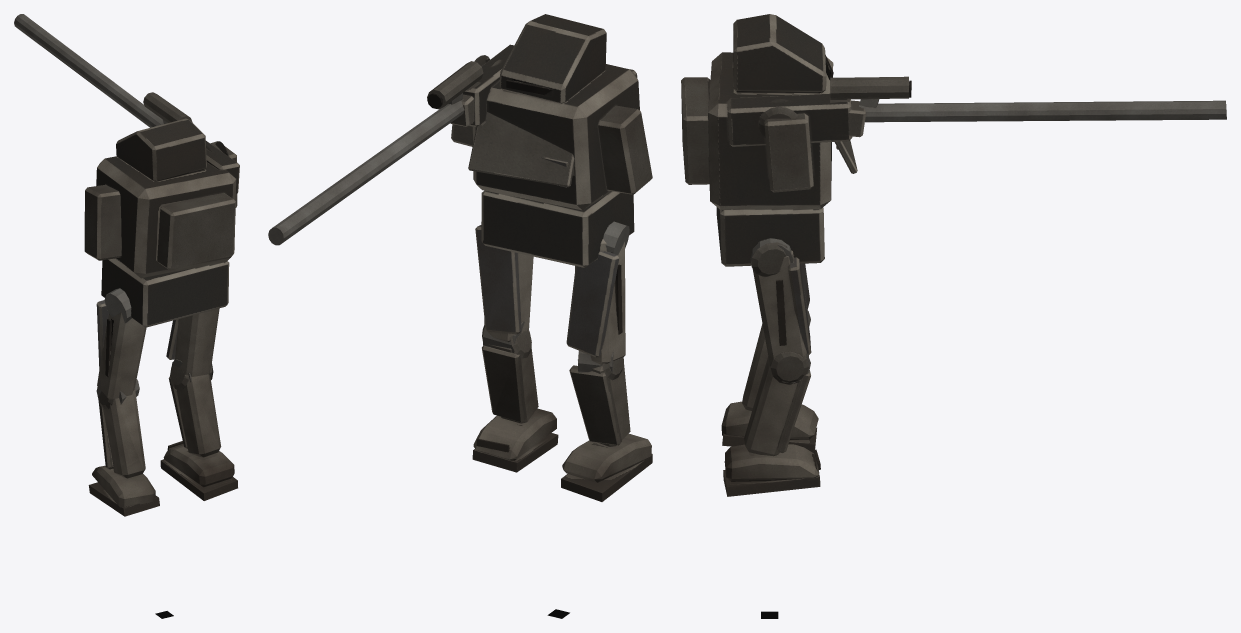
File: ord_marksman_wreck.fbx
The picture shows the model from 3 angles, left to right: view 1: azimuth 30°, elevation 25°; view 2: azimuth 150°, elevation 25°; view 3: azimuth 270°, elevation 25°; orthographic projection. The views are drawn at different scales.
Parts seen in each view (by area): view 1: torso_bar, base_bar, thighL_bar, thighR_bar, shinL_bar, shinR_bar, footR_bar, footL_bar; view 2: torso_bar, base_bar, thighL_bar, thighR_bar, footL_bar, footR_bar, shinL_bar, shinR_bar; view 3: torso_bar, thighR_bar, base_bar, footR_bar, shinR_bar, footL_bar, shinL_bar.
Part boxes in pixels (left/top/right/bottom): torso_bar: left=14, top=14, right=239, bottom=278; base_bar: left=101, top=258, right=229, bottom=327; thighL_bar: left=96, top=288, right=146, bottom=409; thighR_bar: left=166, top=308, right=219, bottom=389; shinL_bar: left=98, top=388, right=145, bottom=478; shinR_bar: left=168, top=374, right=221, bottom=457; footR_bar: left=160, top=441, right=237, bottom=500; footL_bar: left=88, top=465, right=159, bottom=516; torso_bar: left=268, top=14, right=652, bottom=245; base_bar: left=481, top=190, right=634, bottom=267; thighL_bar: left=566, top=221, right=629, bottom=380; thighR_bar: left=475, top=225, right=533, bottom=358; footL_bar: left=561, top=433, right=652, bottom=501; footR_bar: left=472, top=408, right=558, bottom=472; shinL_bar: left=569, top=359, right=630, bottom=446; shinR_bar: left=482, top=330, right=538, bottom=423; torso_bar: left=681, top=14, right=1226, bottom=210; thighR_bar: left=750, top=238, right=811, bottom=384; base_bar: left=716, top=207, right=824, bottom=266; footR_bar: left=723, top=444, right=820, bottom=496; shinR_bar: left=744, top=356, right=810, bottom=456; footL_bar: left=721, top=401, right=818, bottom=453; shinL_bar: left=742, top=323, right=768, bottom=410.
Bounding box in the file's own units: 240 × 760 × 640.
Materials: 2 (2 with a texture image).
